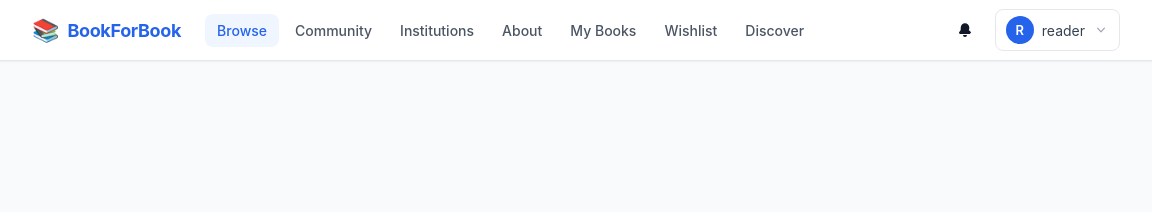
Navbar › handles array-format notifications data (direct array from API)
Click the button named "notifications" at [965, 30], box [948,12,983,48]
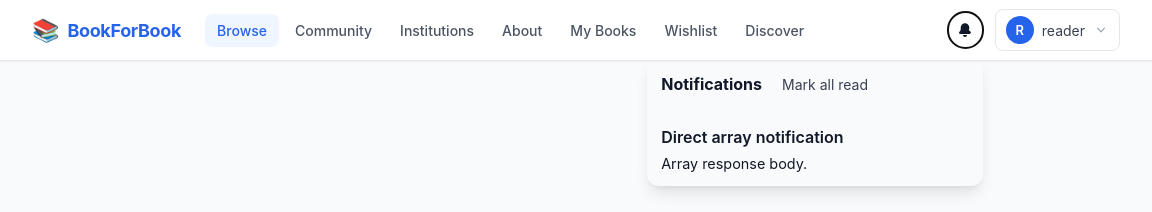
Expected: the text "Direct array notification" is shown, [661,127,844,147]
